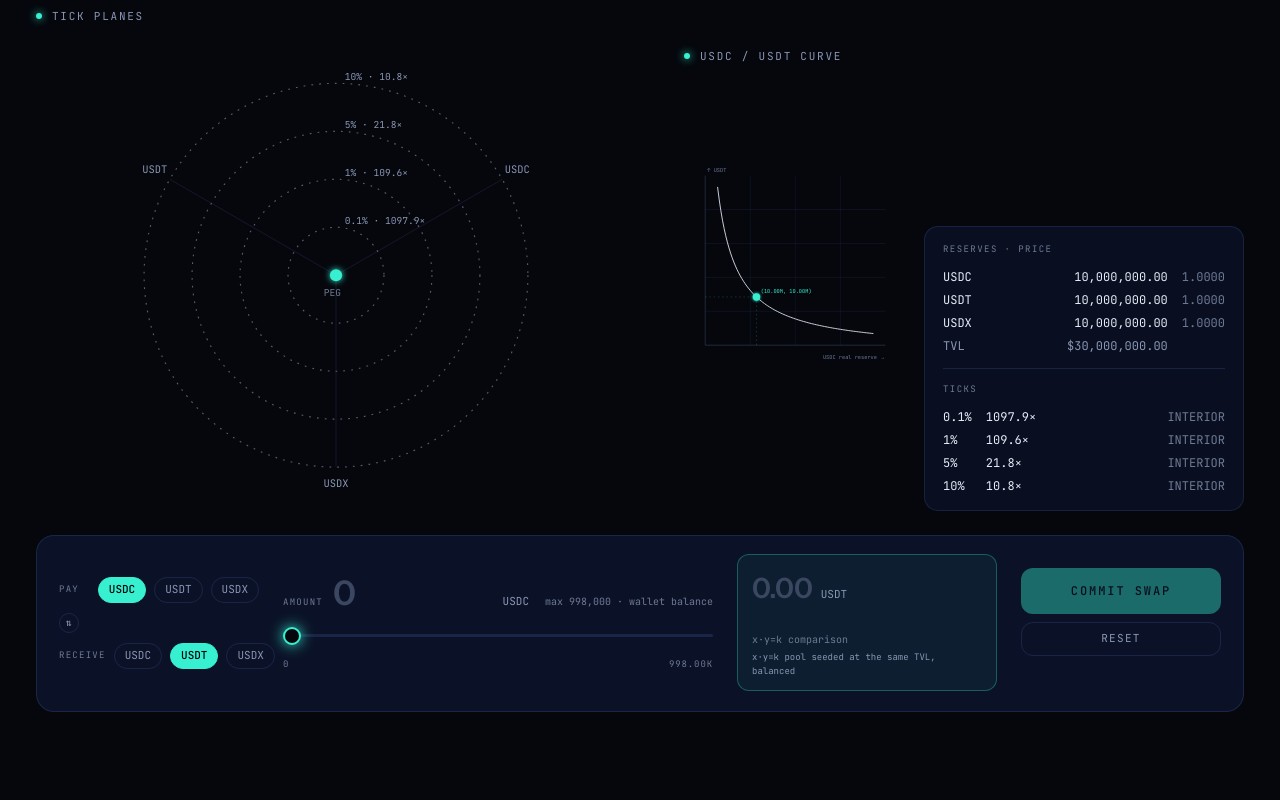
Test: PoolView wallet balance cap › disables COMMIT and warns when the typed amount exceeds the wallet balance
Expected: the text "$30,000,000.00" is shown, [1067,338,1168,354]
Step 1. Type "1500000" into the field named "amount in" → (413, 594), box [333,574,493,614]
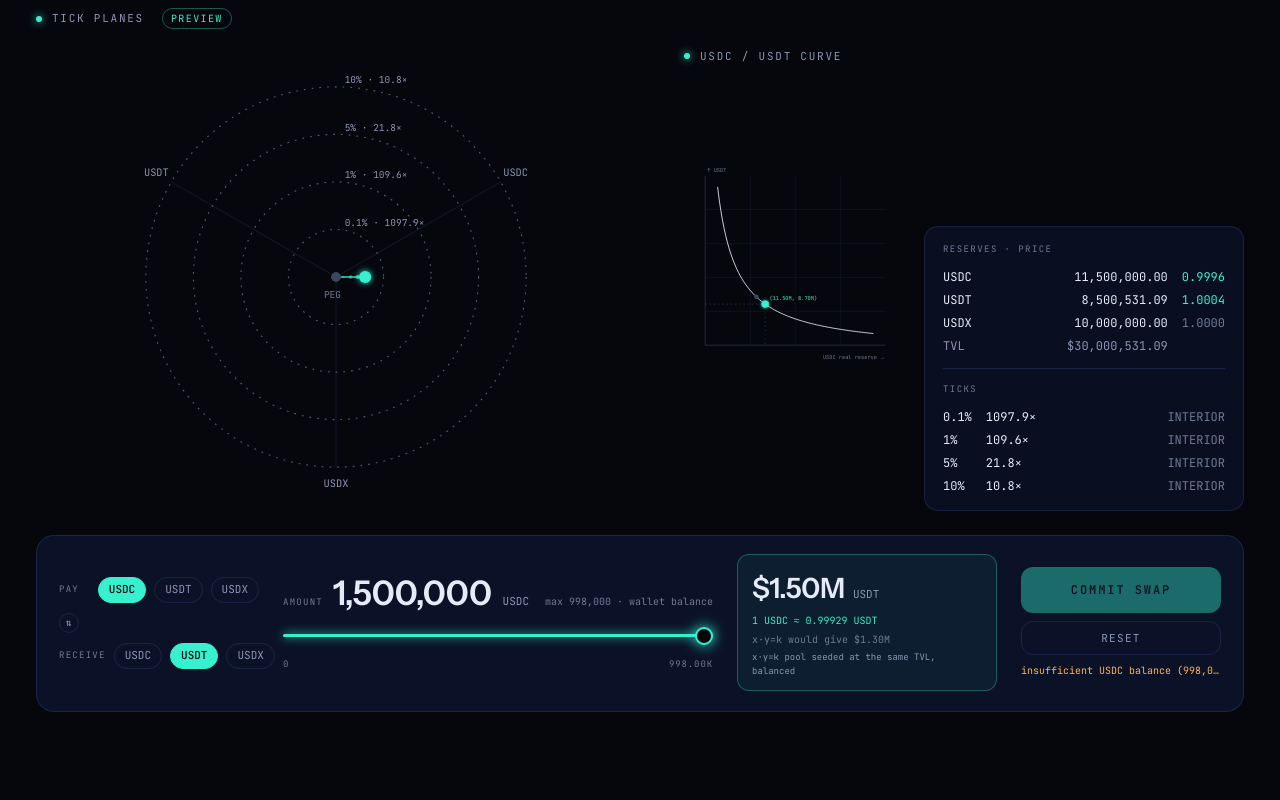
Expected: the button "COMMIT SWAP" is disabled, [1021,567,1221,613]
Expected: the text "insufficient USDC balance (998,000.00)" is shown, [1021,663,1221,678]
